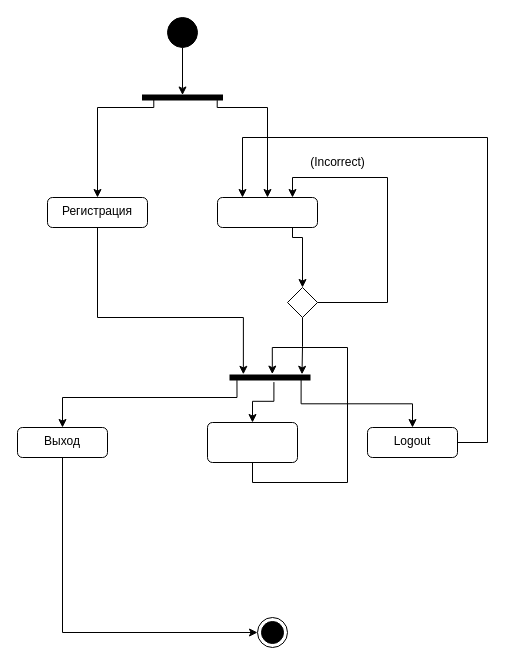
Image size: 513x665. Some labels were removed from this diagram. The shapes that lost their labels are listed below. From the top down, each one's centre as x and y in pixels, then its label:
At pixel 267 212: "Авторизация".
At pixel 252 442: "Выполнение запроса".
